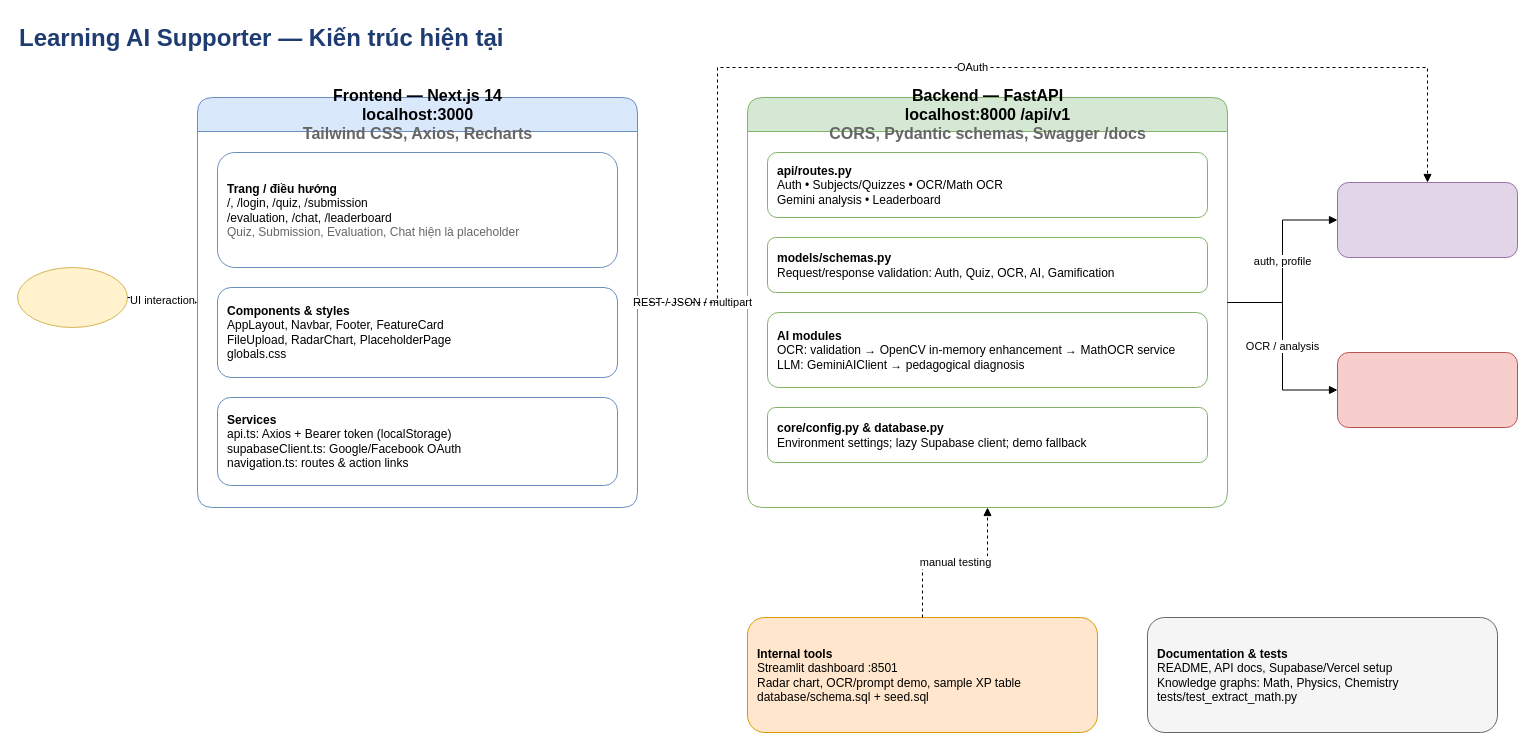
The diagram is 1535 pixels wide and 750 high, and some of its shapes have lost their labels. The shapes that lost their labels are listed below. From the top down, each one's centre as x and y in pixels, then its label:
At (1427,220): "Supabase Auth / PostgreSQL".
At (72,297): "Học sinh".
At (1427,390): "Google Gemini Vision Math OCR & LLM".
